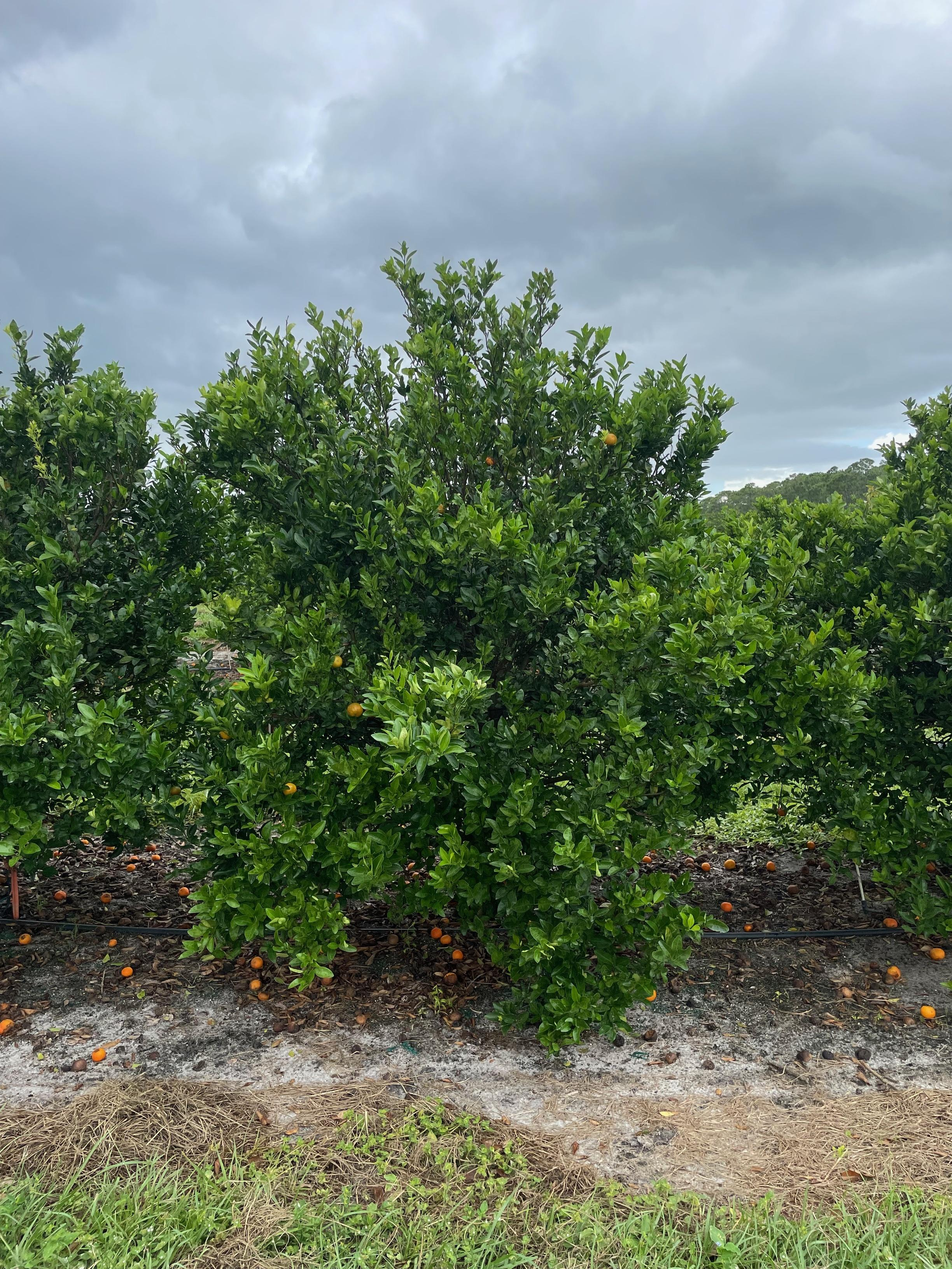fruit_on_ground: (839, 824, 860, 844), (345, 700, 365, 720), (483, 451, 501, 469), (327, 652, 345, 670), (280, 780, 298, 798), (602, 432, 619, 448), (218, 726, 234, 741), (774, 804, 788, 818), (168, 783, 182, 797)
fruit_on_tree: (928, 945, 947, 962), (0, 1016, 17, 1035), (919, 1003, 937, 1020), (248, 954, 266, 970), (71, 1056, 88, 1072), (885, 963, 902, 979), (90, 1045, 107, 1061), (443, 970, 460, 985), (16, 931, 33, 946), (837, 985, 853, 1000), (248, 977, 263, 992), (257, 988, 272, 1003), (450, 948, 465, 963), (429, 926, 444, 941), (447, 1009, 463, 1023), (644, 988, 658, 1003), (52, 889, 68, 902), (882, 916, 899, 928), (354, 1012, 368, 1026), (120, 964, 135, 977), (723, 857, 738, 870), (720, 899, 734, 912), (177, 885, 191, 898), (924, 860, 938, 872), (439, 934, 453, 946), (786, 883, 800, 895), (99, 892, 113, 904), (798, 864, 811, 876), (103, 842, 117, 853), (640, 854, 654, 865), (700, 860, 712, 872), (765, 859, 777, 871), (127, 853, 140, 864), (144, 842, 157, 853), (819, 859, 831, 870), (79, 835, 91, 846), (149, 852, 162, 862), (51, 847, 62, 858), (805, 839, 817, 849), (743, 921, 755, 931), (107, 937, 119, 947), (912, 911, 922, 922), (126, 862, 137, 872)
